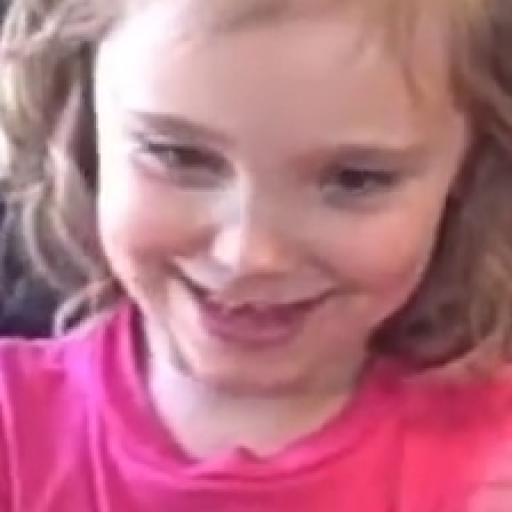Autism: (75, 0, 512, 491)
